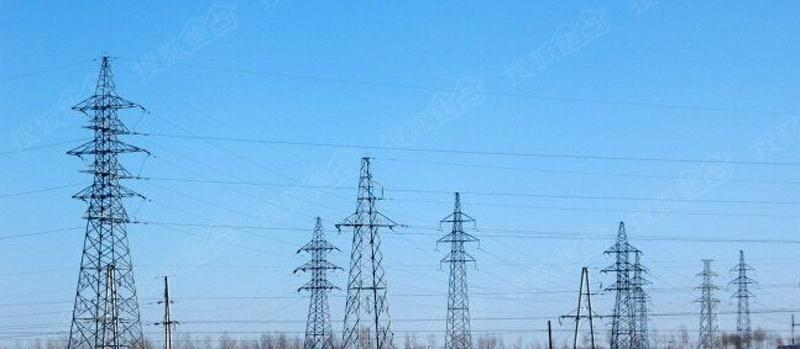power_tower: (47, 45, 166, 344), (332, 149, 400, 344), (430, 186, 487, 344), (297, 204, 337, 344), (599, 220, 644, 344)
